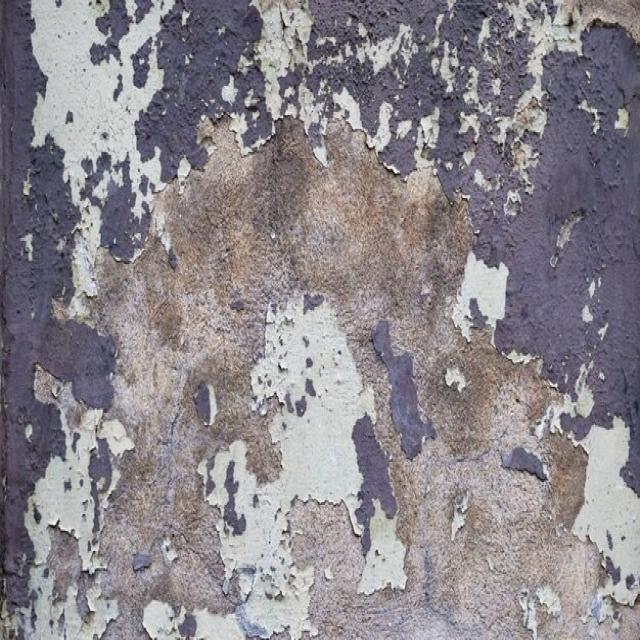peeling: (17, 4, 632, 639), (80, 197, 477, 637)
